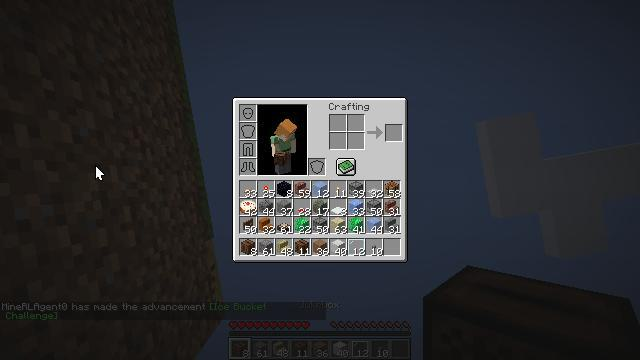cursor: (95, 165, 105, 181)
